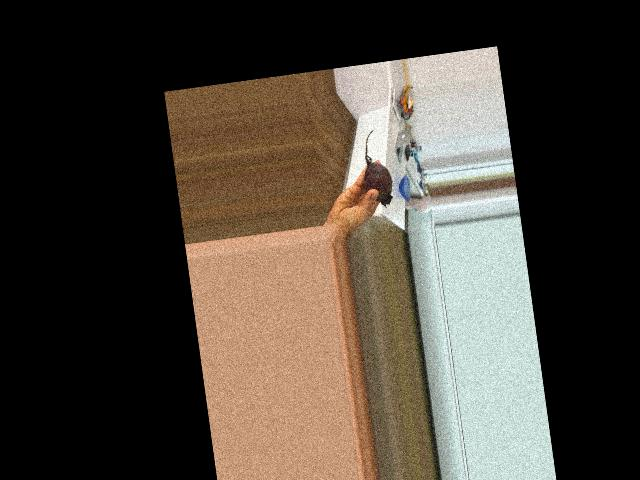beet: (357, 128, 395, 209)
